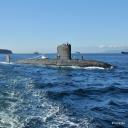submarine: (6, 45, 117, 70)
